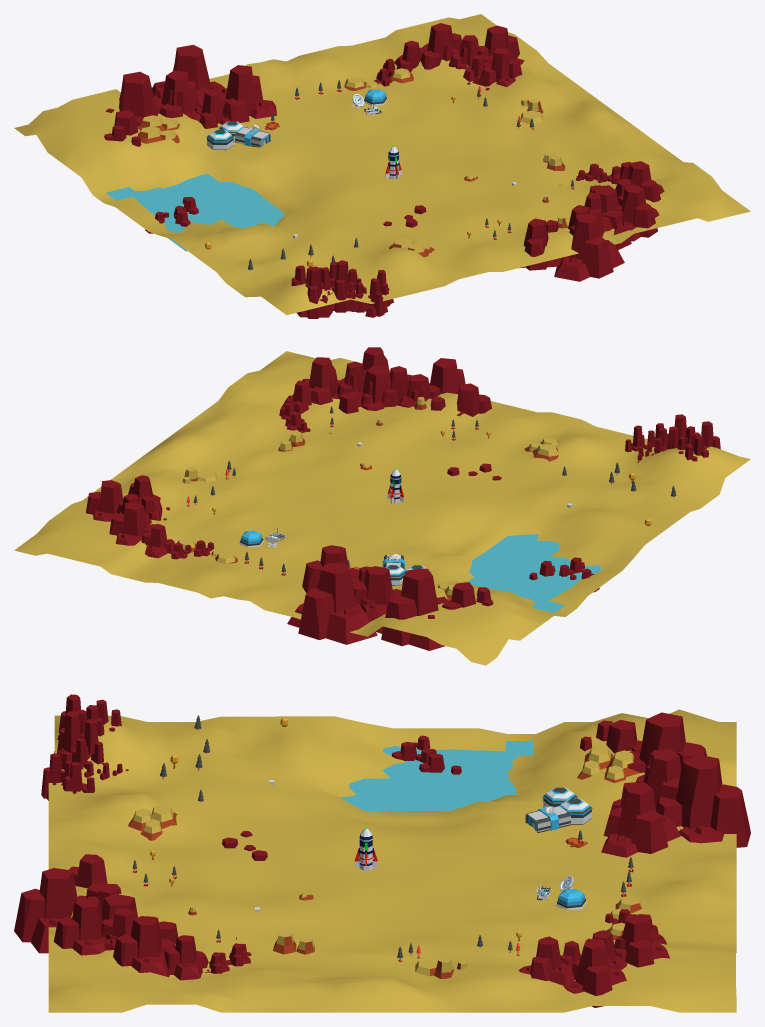
File: worldOrange2.glb
3 views of the same model, one above another, from view 1: azimuth 30°, elevation 25°; view 2: azimuth 150°, elevation 25°; view 3: azimuth 270°, elevation 25° (orthographic). The views are drawn at different scales.
Parts seen in each view (by area): view 1: Plane, rock-b.007, Water, crops_dirtSingle.019, Base A; view 2: Plane, rock-b.007, Water, crops_dirtSingle.019, Base A; view 3: Plane, rock-b.007, Water, crops_dirtSingle.019, Base A, Trees.001, Trees, rocket_baseA.
Boxes of the visible parts, bbox=[...] form: Plane: bbox=[14, 14, 750, 315]; rock-b.007: bbox=[104, 23, 664, 318]; Water: bbox=[106, 173, 287, 251]; crops_dirtSingle.019: bbox=[137, 68, 567, 257]; Base A: bbox=[206, 121, 270, 150]; Plane: bbox=[14, 351, 750, 665]; rock-b.007: bbox=[86, 347, 720, 650]; Water: bbox=[467, 521, 601, 612]; crops_dirtSingle.019: bbox=[177, 397, 558, 600]; Base A: bbox=[382, 554, 431, 585]; Plane: bbox=[48, 709, 736, 1012]; rock-b.007: bbox=[14, 694, 750, 1007]; Water: bbox=[338, 741, 533, 811]; crops_dirtSingle.019: bbox=[119, 745, 642, 978]; Base A: bbox=[525, 787, 592, 832]; Trees.001: bbox=[132, 715, 288, 942]; Trees: bbox=[397, 830, 633, 961]; rocket_baseA: bbox=[354, 827, 377, 872].
Size of the model in its own units: 277 by 38.23 by 297.
